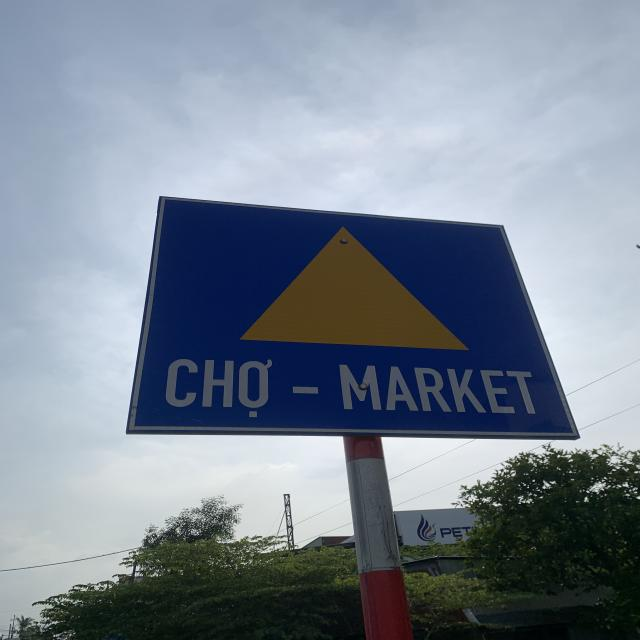Cho_Quay_Xe: (122, 192, 580, 439)
